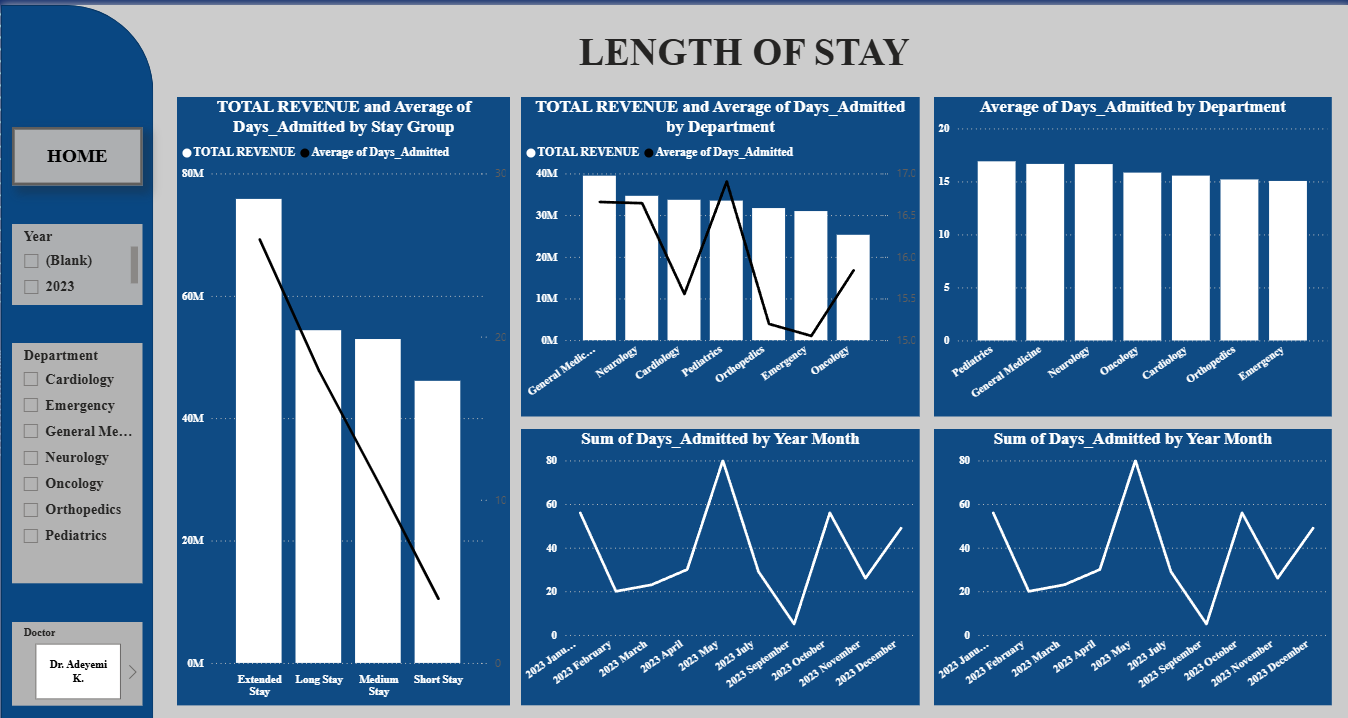

The dashboard page shown, as its layout file describes it:
{"tool":"powerbi","page":{"name":"Length of Stay","canvas":[1500,820],"ordinal":4},"visuals":[{"type":"columnChart","fields":{"Category":["main sheet.Department"],"Y":["Avg(main sheet.Days_Admitted)"]},"box":[1036.4,102.3,442,354.5],"z":5000},{"type":"lineClusteredColumnComboChart","fields":{"Y2":["Avg(main sheet.Days_Admitted)"],"Y":["main sheet.TOTAL REVENUE"],"Category":["main sheet.Stay Group"]},"box":[195.5,102.3,370.5,676.1],"z":6000},{"type":"lineClusteredColumnComboChart","fields":{"Category":["main sheet.Department"],"Y2":["Avg(main sheet.Days_Admitted)"],"Y":["main sheet.TOTAL REVENUE"]},"box":[577.3,102.3,443.2,354.5],"z":7000},{"type":"shape","box":[0,0,169.2,820.5],"z":8000},{"type":"textbox","box":[585.9,21.8,480.8,62.8],"z":9000},{"type":"lineChart","fields":{"Category":["dim date.Year Month"],"Y":["Sum(main sheet.Days_Admitted)"]},"box":[577.3,471.6,443.2,306.8],"z":10000},{"type":"lineChart","fields":{"Category":["dim date.Year Month"],"Y":["Sum(main sheet.Days_Admitted)"]},"box":[1036.4,471.6,442,306.8],"z":11000},{"type":"slicer","fields":{"Values":["dim date.Year"]},"box":[12.5,243.2,145.5,89.8],"z":12000},{"type":"slicer","fields":{"Values":["main sheet.Department"]},"box":[12.5,375,145.5,267],"z":13000},{"type":"slicer","fields":{"Values":["main sheet.Doctor"]},"box":[12.5,685.2,145.5,93.2],"z":14000},{"type":"actionButton","title":"HOME ","box":[12.5,135.2,145.5,64.8],"z":15000}]}

Visuals, with their boxes in screenshot pixels (x1, y1, x2, y2), scaled from the page's 1500x820 canvas onto the 1348x718 screenshot:
columnChart - main sheet.Department x Avg(main sheet.Days_Admitted): 931/90/1329/400
lineClusteredColumnComboChart - Avg(main sheet.Days_Admitted) x main sheet.TOTAL REVENUE: 176/90/509/682
lineClusteredColumnComboChart - main sheet.Department x Avg(main sheet.Days_Admitted): 519/90/917/400
shape: 0/0/152/717
textbox: 527/19/959/74
lineChart - dim date.Year Month x Sum(main sheet.Days_Admitted): 519/413/917/682
lineChart - dim date.Year Month x Sum(main sheet.Days_Admitted): 931/413/1329/682
slicer - dim date.Year: 11/213/142/292
slicer - main sheet.Department: 11/328/142/562
slicer - main sheet.Doctor: 11/600/142/682
"HOME " actionButton: 11/118/142/175
